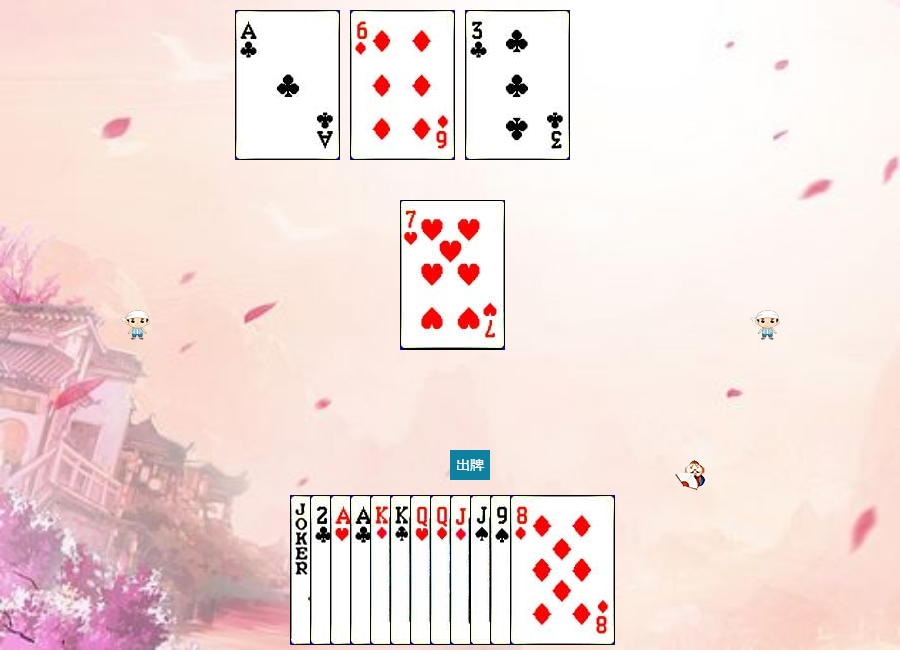11~1: (450, 495, 555, 645)
11~4: (470, 495, 575, 645)
12~1: (430, 495, 535, 645)
12~3: (410, 495, 515, 645)
13~1: (370, 495, 475, 645)
13~2: (390, 495, 495, 645)
14~2: (235, 10, 340, 160), (350, 495, 455, 645)
14~3: (330, 495, 435, 645)
15~2: (310, 495, 415, 645)
17~3: (290, 495, 395, 645)
3~2: (465, 10, 570, 160)
6~1: (350, 10, 455, 160)
7~3: (400, 200, 505, 350)
8~1: (510, 495, 615, 645)
9~4: (490, 495, 595, 645)
